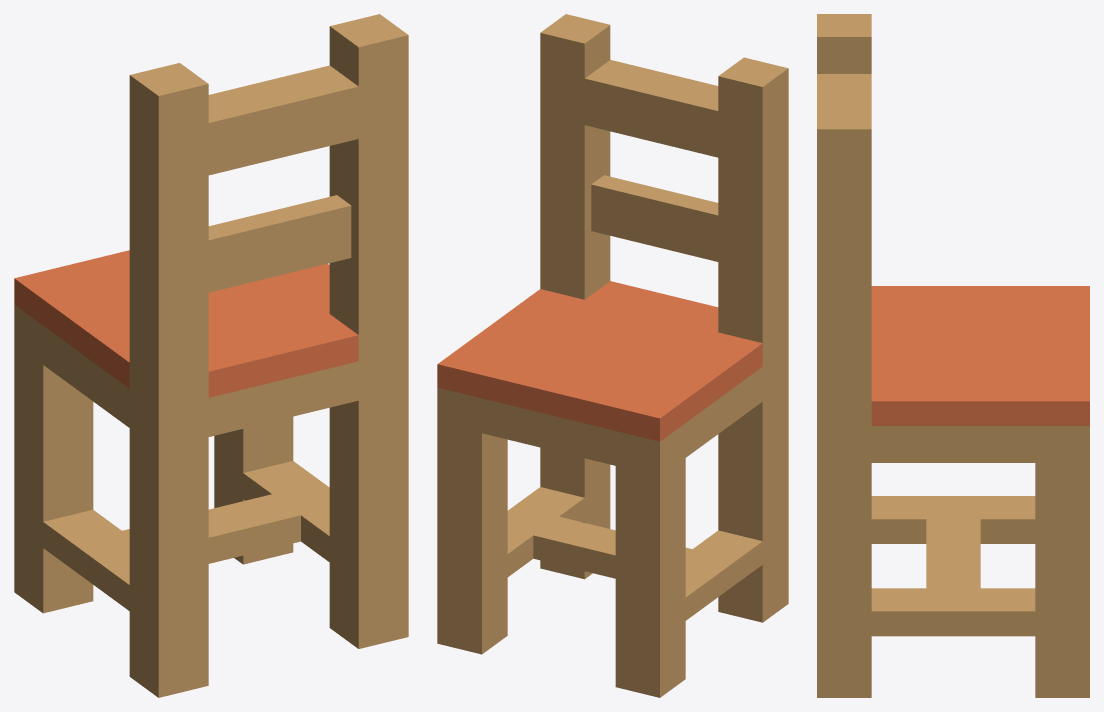
File: chairCushion.glb
3 views of the same model, side by side, from view 1: azimuth 30°, elevation 25°; view 2: azimuth 150°, elevation 25°; view 3: azimuth 270°, elevation 25° (orthographic). The views are drawn at different scales.
Size of the model in its own units: 2 by 4.6 by 2.
